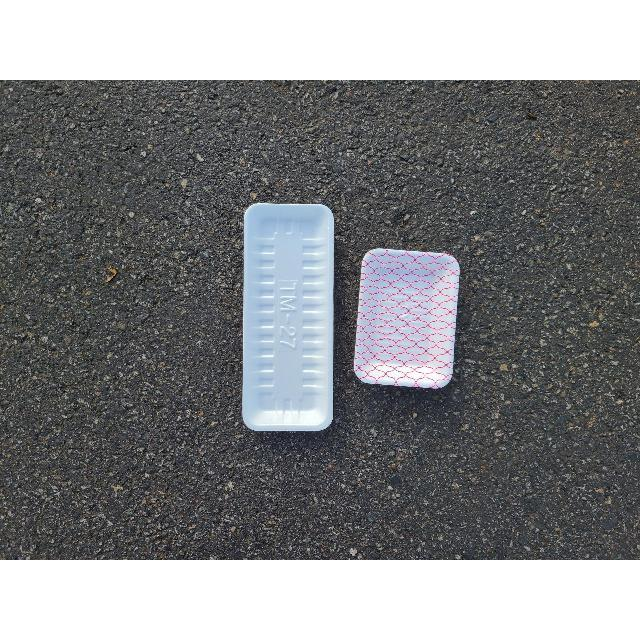Recipiente plastico: (242, 204, 334, 431), (354, 250, 459, 388)
